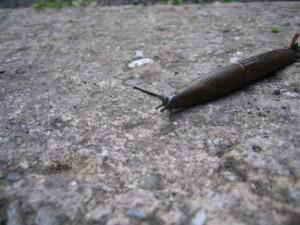slug: (135, 28, 300, 128)
